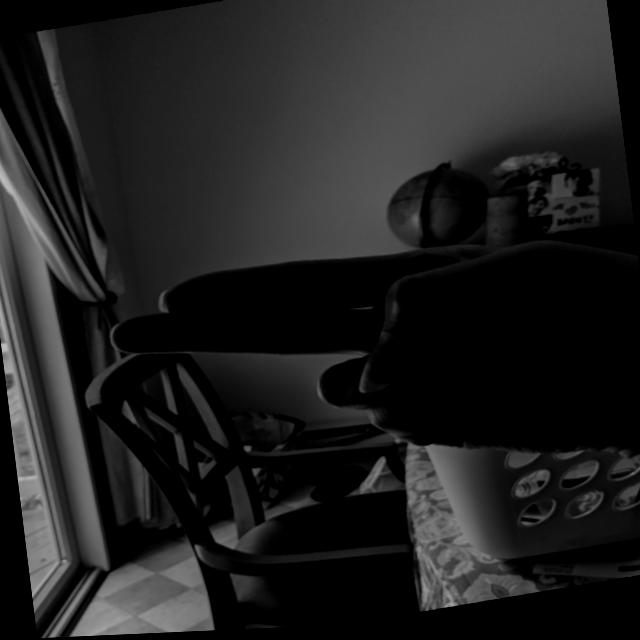H: (90, 197, 639, 543)
